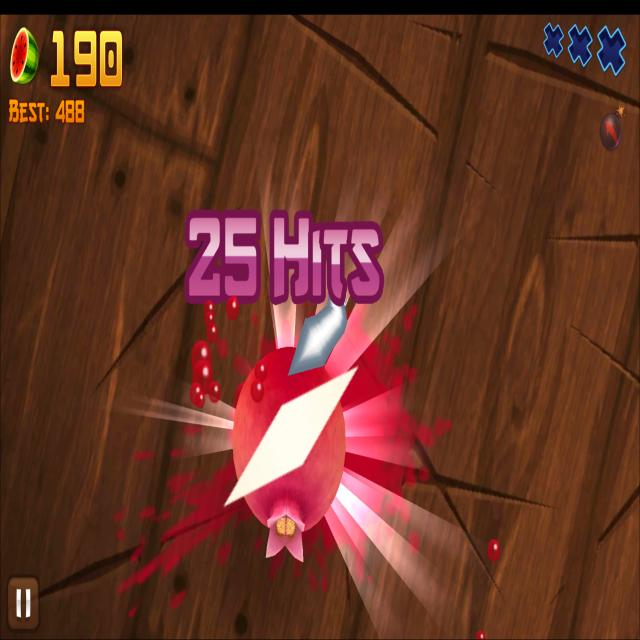fruit: (234, 346, 346, 536)
